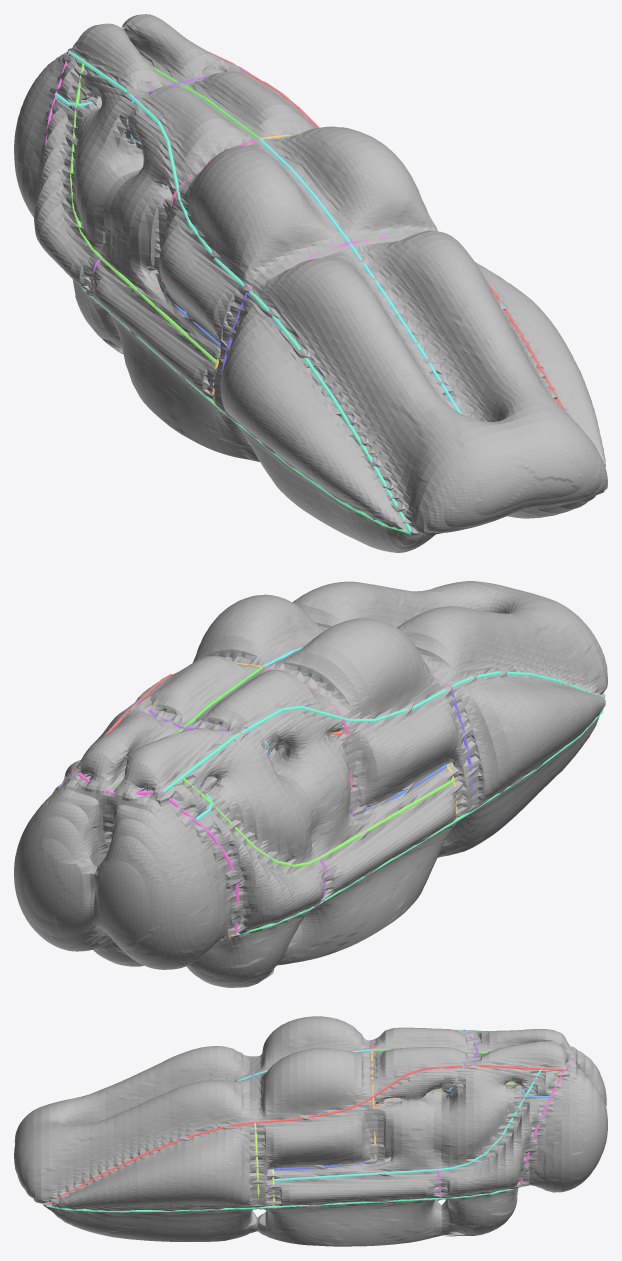
Rendered from t2f_hand_vacuum.gltf.
3 renders of one model, top to bottom at view 1: azimuth 30°, elevation 25°; view 2: azimuth 150°, elevation 25°; view 3: azimuth 270°, elevation 25°, orthographic. The views are drawn at different scales.
Bounding box in the file's own units: 0.4053 × 0.3365 × 1.03.
